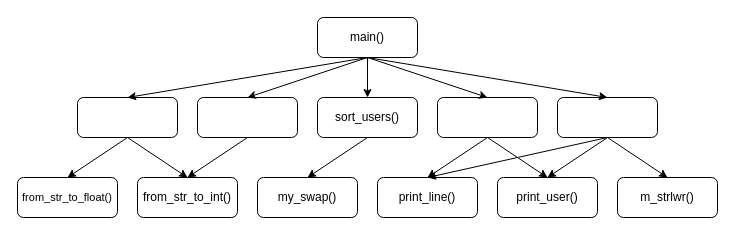
The diagram is 735 pixels wide and 235 high, and some of its shapes have lost their labels. Each missing label, with the centre of its shape:
"fill_struct()" belongs at point (127, 117).
"find_users()" belongs at point (607, 117).
"from_str_to_int_mas()" belongs at point (247, 117).
"pprint()" belongs at point (487, 117).
